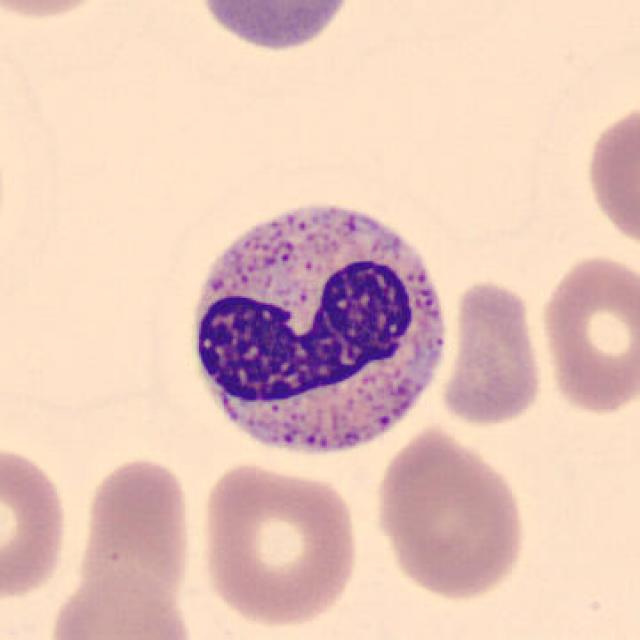Monocyte: (184, 0, 366, 56)
Neutrophil: (172, 183, 460, 476)
RBC: (369, 423, 532, 605), (194, 457, 364, 631), (75, 451, 197, 612), (436, 275, 550, 432), (535, 248, 638, 420), (0, 439, 73, 608), (46, 566, 199, 640), (186, 0, 366, 56), (579, 96, 640, 257), (0, 0, 124, 23)
